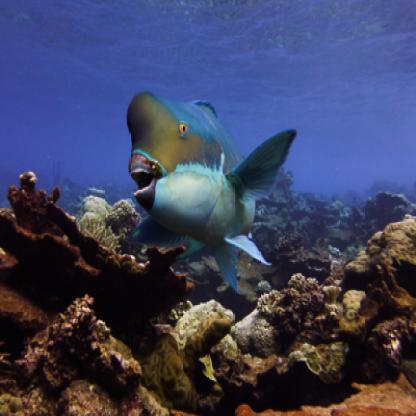parrot: (122, 86, 301, 298)
